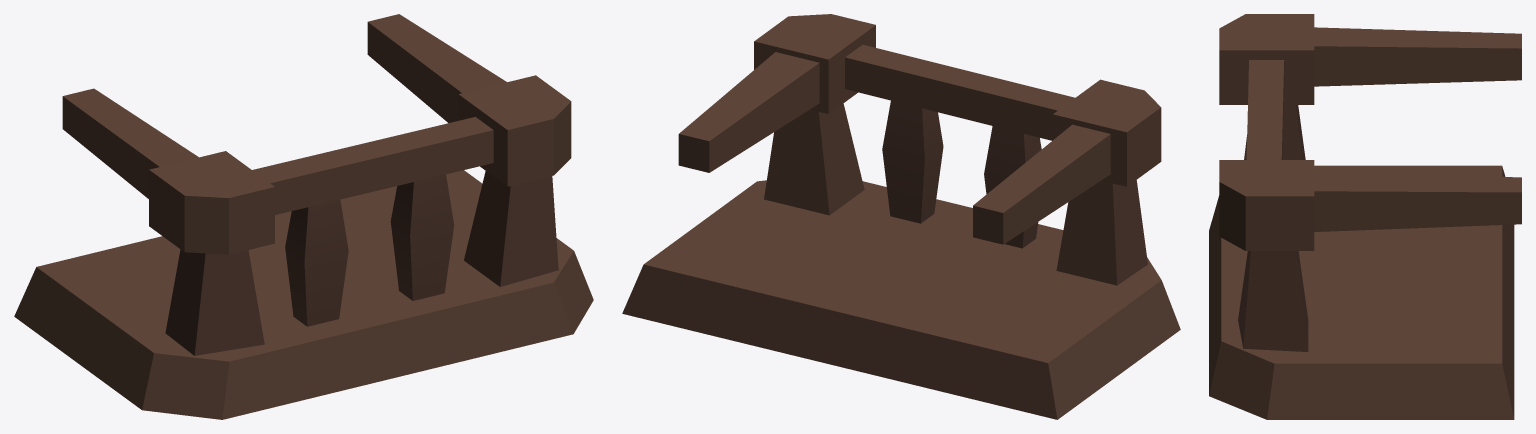
The model's file is Balcony_E2.fbx.
3 renders of one model, left to right at view 1: azimuth 30°, elevation 25°; view 2: azimuth 150°, elevation 25°; view 3: azimuth 270°, elevation 25°, orthographic. The views are drawn at different scales.
Visible parts, largest first — view 1: Balcony_E2; view 2: Balcony_E2; view 3: Balcony_E2.
Boxes of the visible parts, x1,y1,x2,y2 form: Balcony_E2: [14, 14, 593, 419]; Balcony_E2: [622, 14, 1180, 419]; Balcony_E2: [1209, 14, 1521, 419].
Size of the model in its own units: 293 by 133 by 182.
